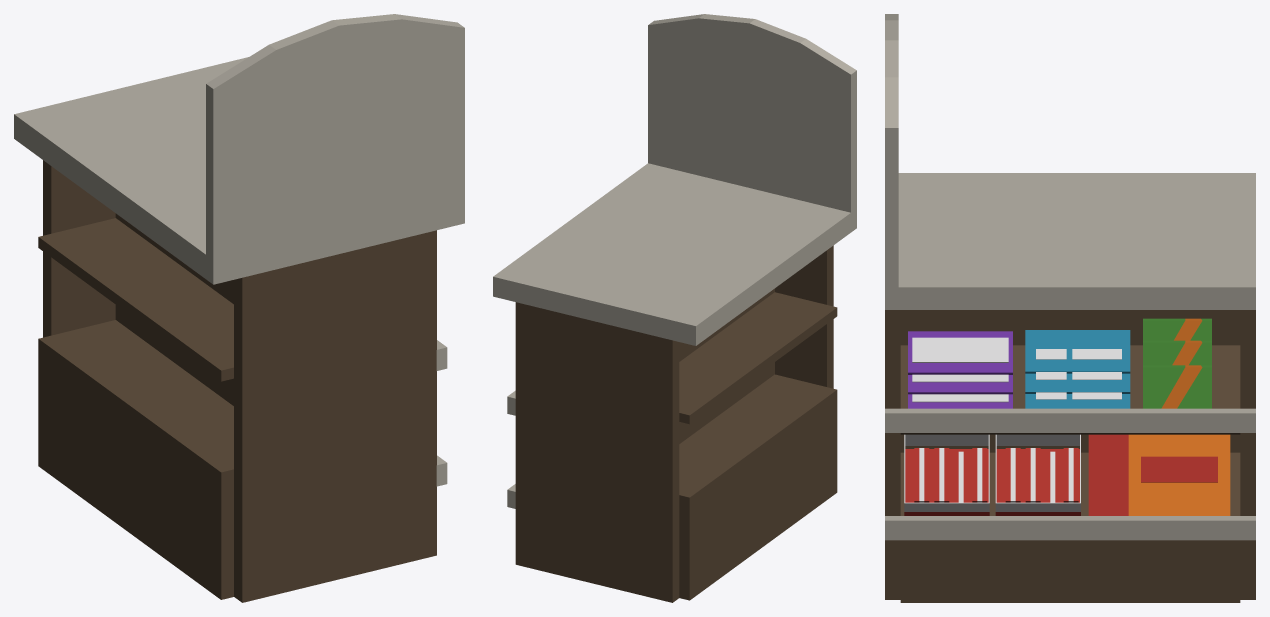
Rendered from SM_shopCounter_04.glb.
The picture shows the model from 3 angles, left to right: view 1: azimuth 30°, elevation 25°; view 2: azimuth 150°, elevation 25°; view 3: azimuth 270°, elevation 25°; orthographic projection. The views are drawn at different scales.
Visible parts, largest first — view 1: SM_shopCounter_04; view 2: SM_shopCounter_04; view 3: SM_shopCounter_04.
Boxes of the visible parts, x1,y1,x2,y2 form: SM_shopCounter_04: (14, 14, 464, 602); SM_shopCounter_04: (493, 14, 856, 602); SM_shopCounter_04: (885, 14, 1255, 602).
Bounding box in the file's own units: 0.7281 × 1.53 × 1.
Materials: 1 (1 with a texture image).
